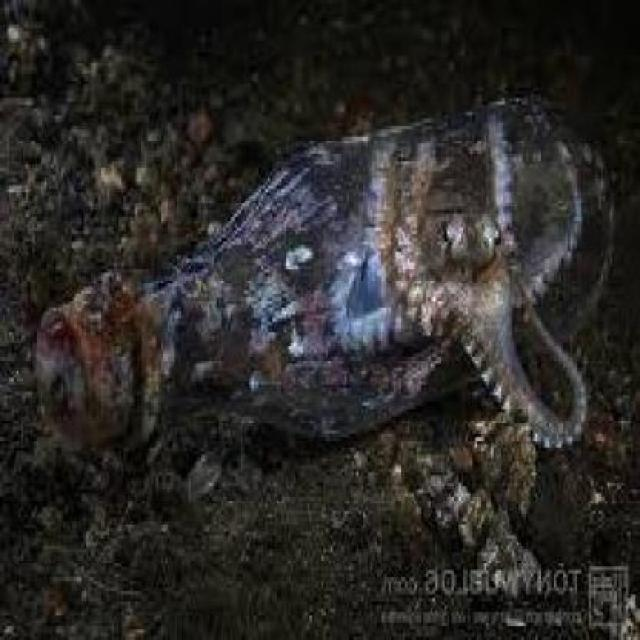gbottle: (32, 94, 612, 458)
